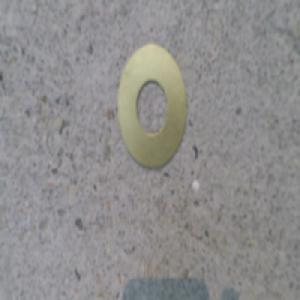Washer: (117, 40, 188, 173)
